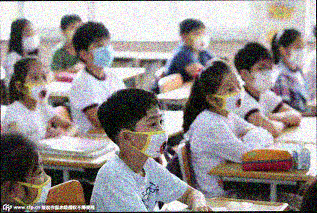with_mask: (23, 160, 53, 211), (141, 113, 169, 161), (26, 70, 52, 105), (221, 81, 247, 115), (253, 62, 279, 95), (91, 37, 116, 70), (20, 27, 42, 54), (288, 41, 309, 67), (192, 28, 212, 54)
